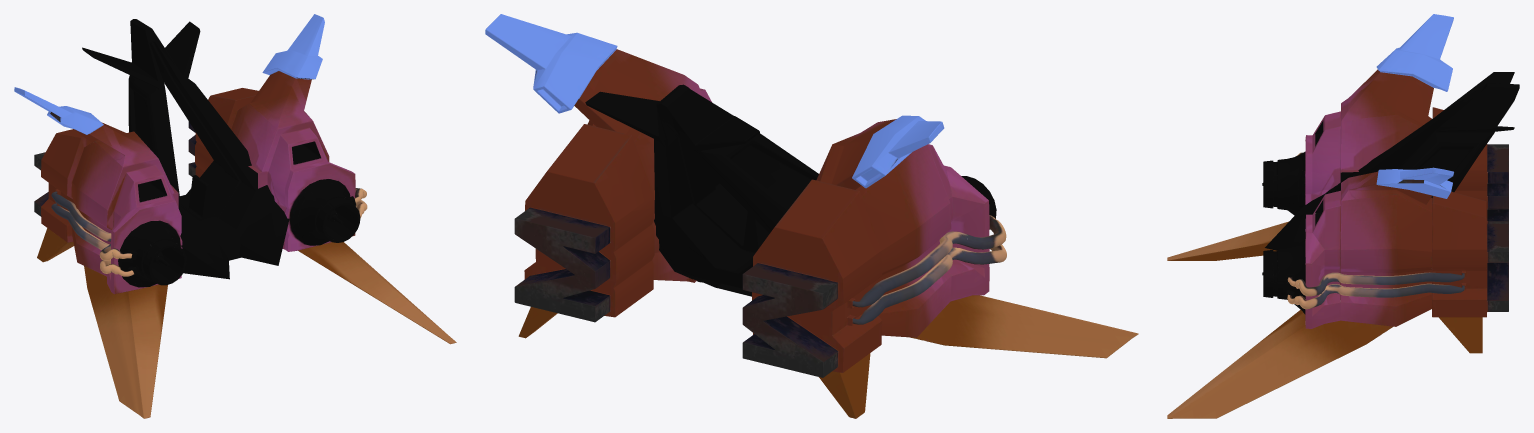
File: TORRETS.glb
The picture shows the model from 3 angles, left to right: view 1: azimuth 30°, elevation 25°; view 2: azimuth 150°, elevation 25°; view 3: azimuth 270°, elevation 25°; orthographic projection. The views are drawn at different scales.
Parts seen in each view (by area): view 1: MOMOSHIP.001; view 2: MOMOSHIP.001; view 3: MOMOSHIP.001.
Part boxes in pixels (x1,y1,x2,y2): MOMOSHIP.001: (14, 14, 456, 418); MOMOSHIP.001: (485, 14, 1138, 418); MOMOSHIP.001: (1167, 14, 1519, 418).
Size of the model in its own units: 5.68 by 4.15 by 5.19.
2 materials, 2 textured.
